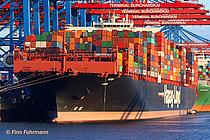Ship: (10, 24, 205, 126)
